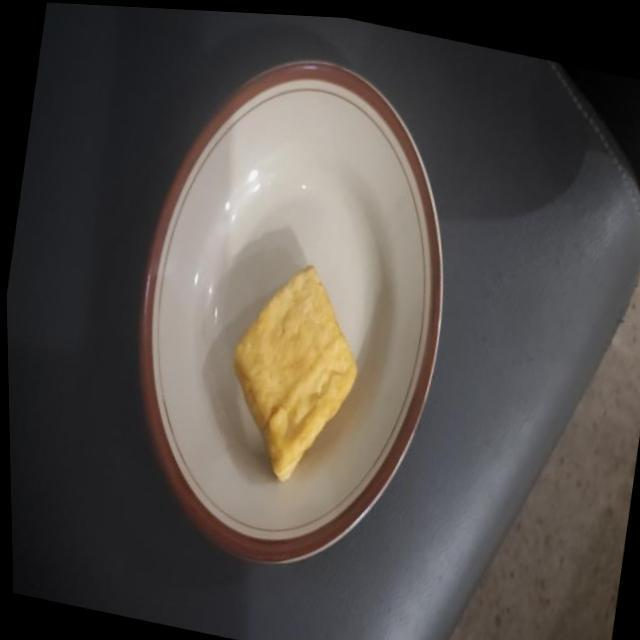tahu_goreng: (234, 266, 357, 480)
